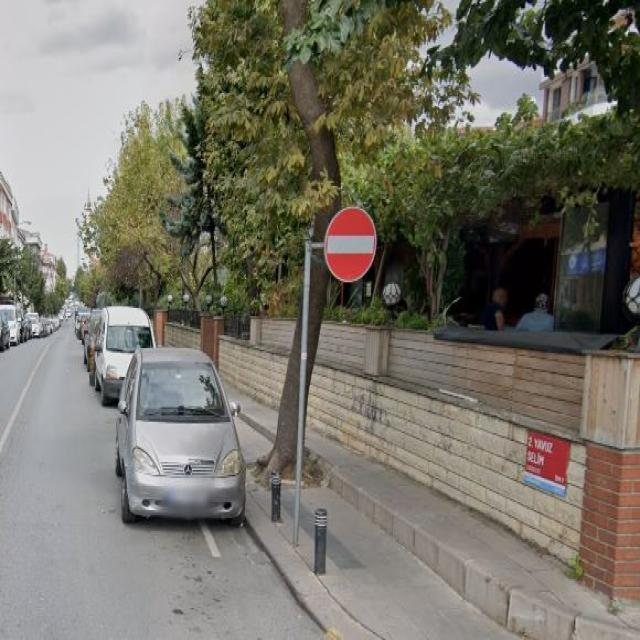girisyok: (324, 207, 377, 282)
